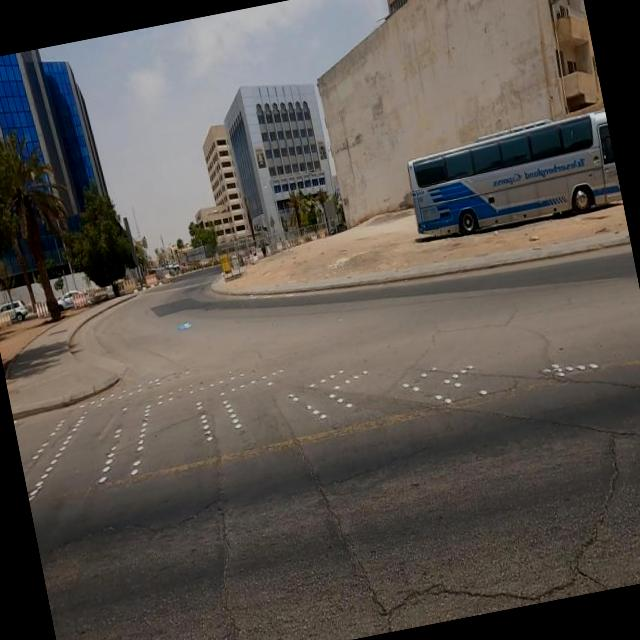debris: (158, 289, 212, 359)
